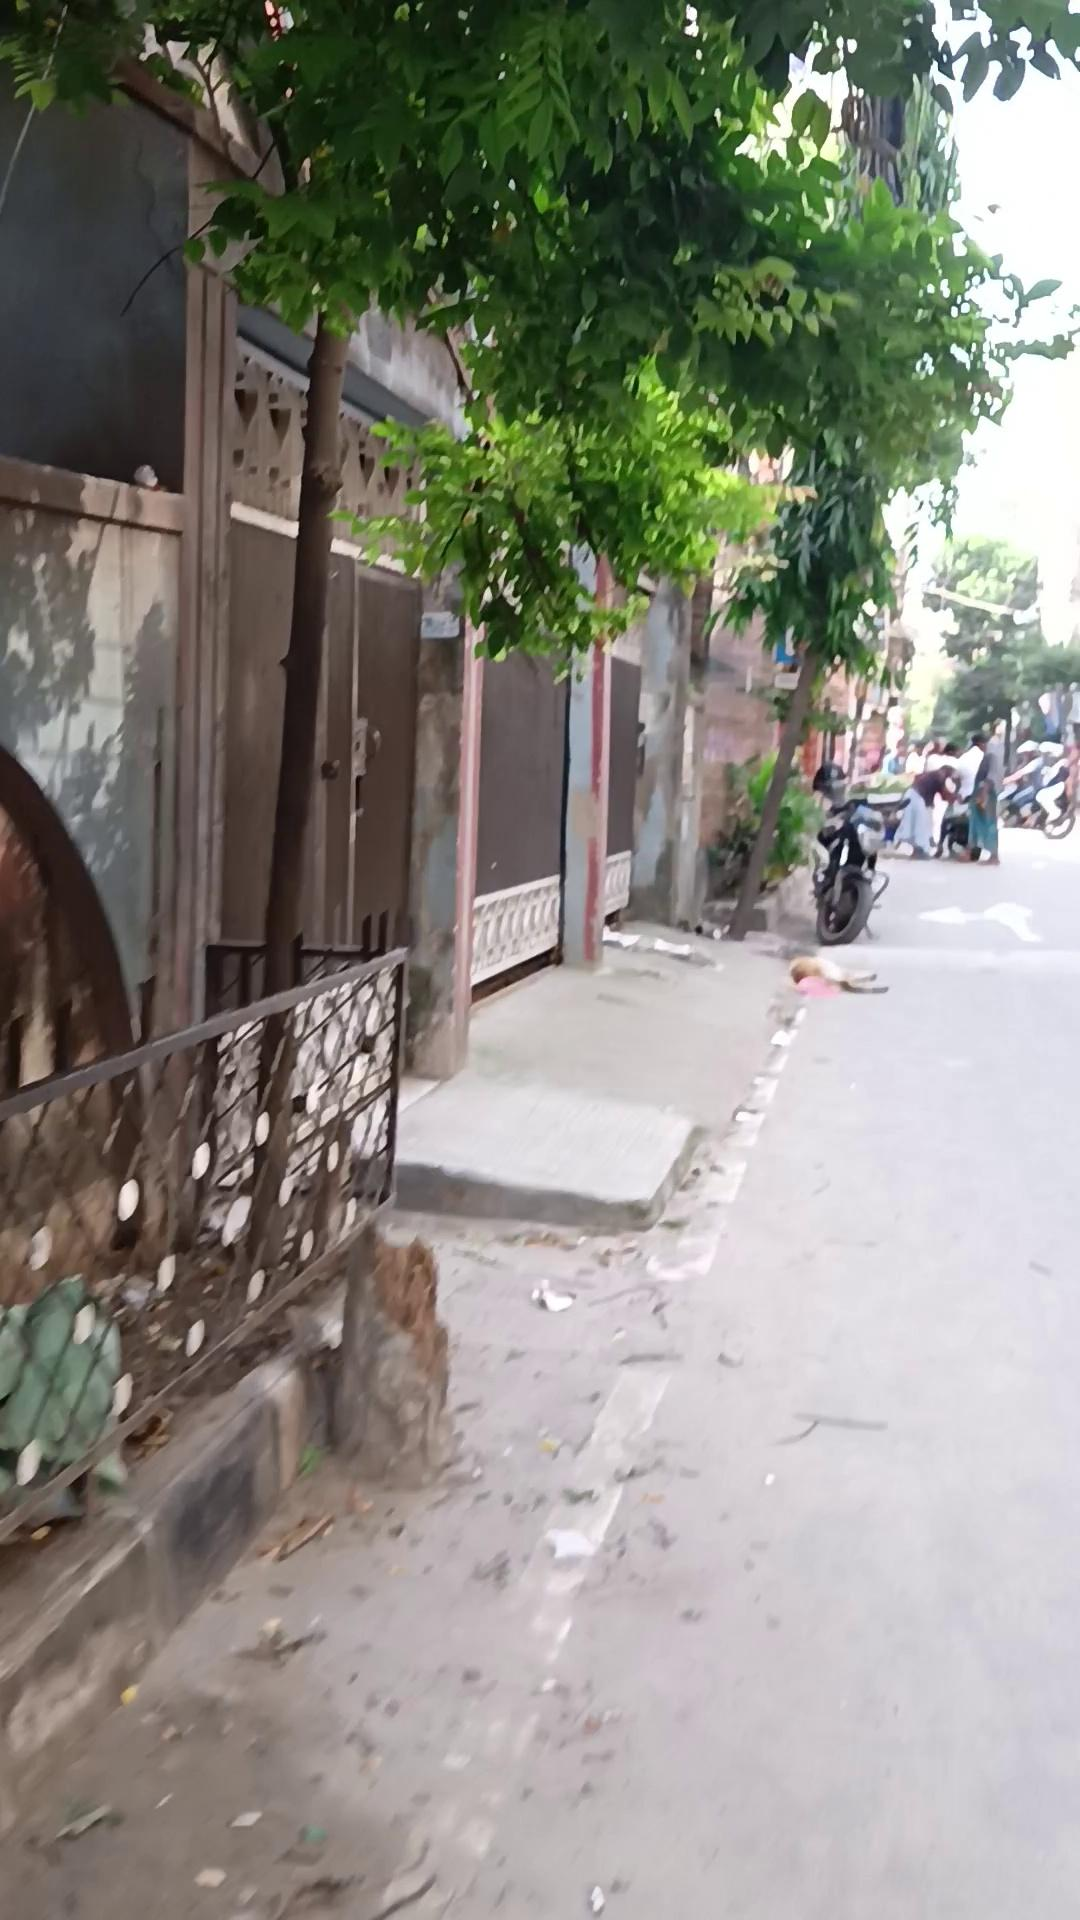Broken-road: (1, 1328, 320, 1698), (388, 1063, 698, 1232)
Construction-barrier: (808, 764, 891, 945)
Garbage: (0, 915, 948, 1913)
Light-pole: (247, 0, 731, 1276), (723, 0, 1017, 940)
Obstacle: (8, 0, 709, 1638)
